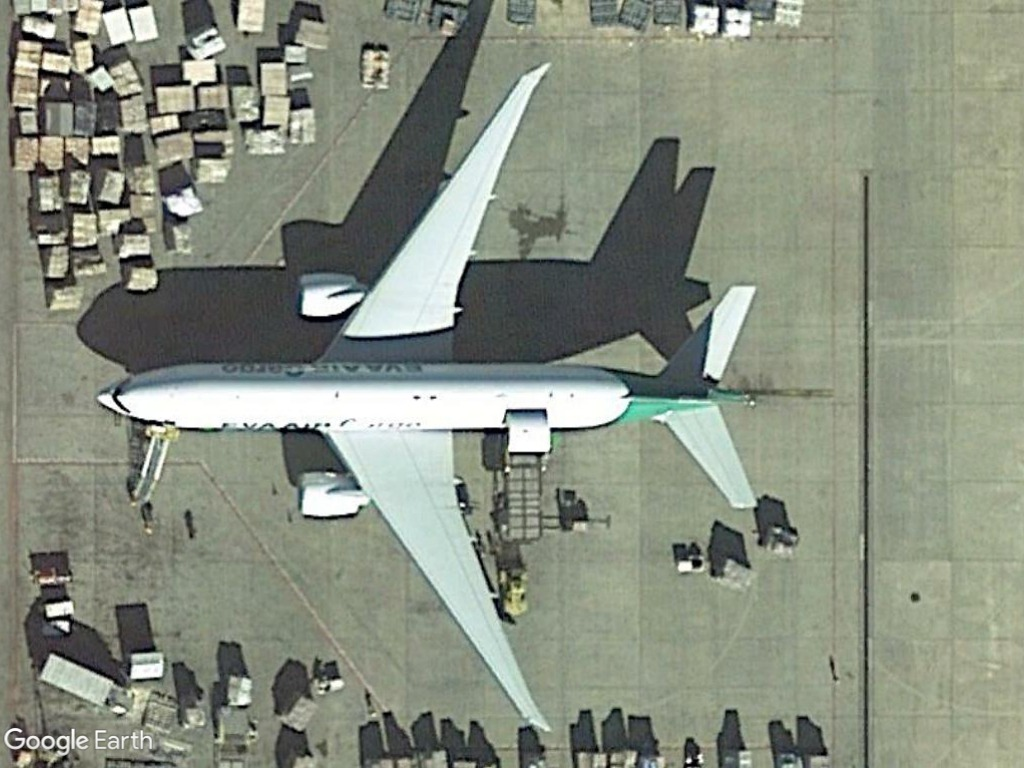airliner: (85, 57, 759, 719)
truck: (36, 646, 137, 718)
